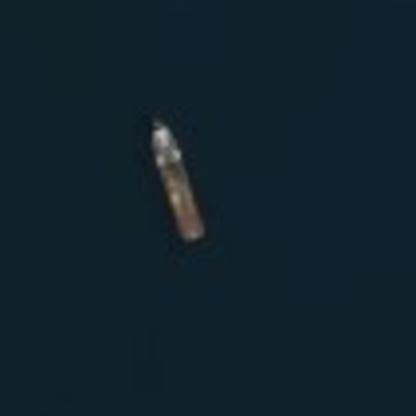ship: (138, 110, 210, 247)
